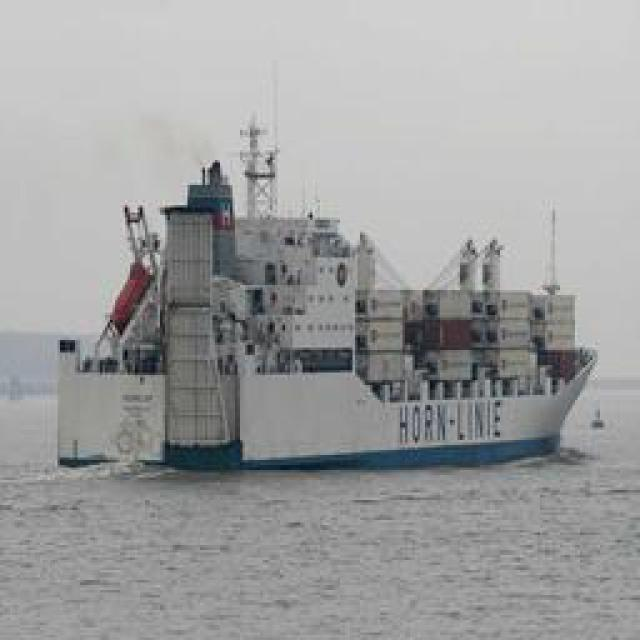Ship: (45, 113, 595, 471)
